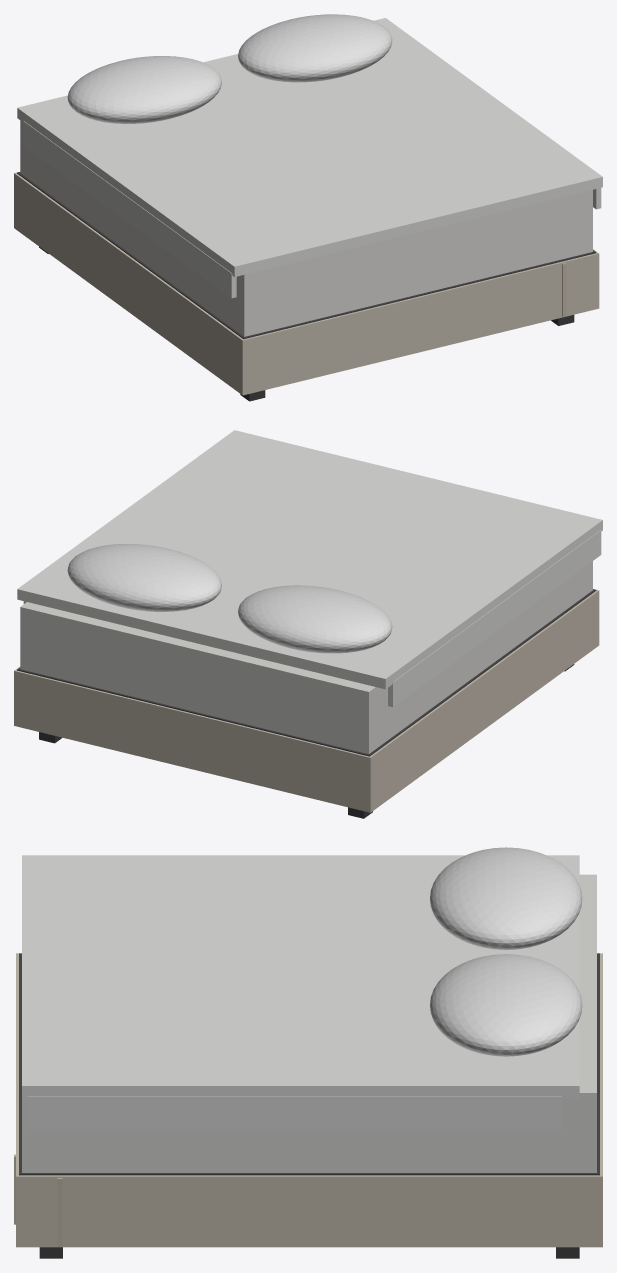
Rendered from letto-matrimoniale-180x200.glb.
The picture shows the model from 3 angles, top to bottom: view 1: azimuth 30°, elevation 25°; view 2: azimuth 150°, elevation 25°; view 3: azimuth 270°, elevation 25°; orthographic projection. The views are drawn at different scales.
Parts seen in each view (by area): view 1: piumino, materasso, mantovana-piedi, mantovana-sx, cuscino-dx, cuscino-sx, piumino-caduta-sx, piano-rete; view 2: piumino, materasso, mantovana-testa, mantovana-sx, cuscino-sx, cuscino-dx, piumino-caduta-sx, piano-rete; view 3: piumino, mantovana-dx, materasso, piumino-caduta-dx, cuscino-dx, cuscino-sx, piano-rete, mantovana-piedi, mantovana-testa.
Boxes of the visible parts, bbox=[...] form: piumino: bbox=[17, 18, 602, 276]; materasso: bbox=[20, 120, 592, 336]; mantovana-piedi: bbox=[246, 253, 595, 394]; mantovana-sx: bbox=[14, 172, 246, 395]; cuscino-dx: bbox=[238, 14, 392, 82]; cuscino-sx: bbox=[67, 56, 221, 123]; piumino-caduta-sx: bbox=[23, 121, 236, 298]; piano-rete: bbox=[17, 172, 596, 339]; piumino: bbox=[17, 430, 602, 689]; materasso: bbox=[20, 561, 592, 753]; mantovana-testa: bbox=[17, 671, 367, 811]; mantovana-sx: bbox=[367, 590, 599, 812]; cuscino-sx: bbox=[238, 585, 392, 653]; cuscino-dx: bbox=[67, 544, 221, 611]; piumino-caduta-sx: bbox=[388, 530, 601, 707]; piano-rete: bbox=[17, 589, 596, 756]; piumino: bbox=[22, 855, 579, 1099]; mantovana-dx: bbox=[16, 1174, 602, 1247]; materasso: bbox=[22, 874, 596, 1172]; piumino-caduta-dx: bbox=[27, 1096, 561, 1128]; cuscino-dx: bbox=[430, 954, 582, 1056]; cuscino-sx: bbox=[430, 847, 582, 949]; piano-rete: bbox=[19, 953, 599, 1175]; mantovana-piedi: bbox=[16, 955, 18, 1174]; mantovana-testa: bbox=[600, 955, 602, 1174].
Bounding box in the file's own units: 1.87 × 0.865 × 2.01.
